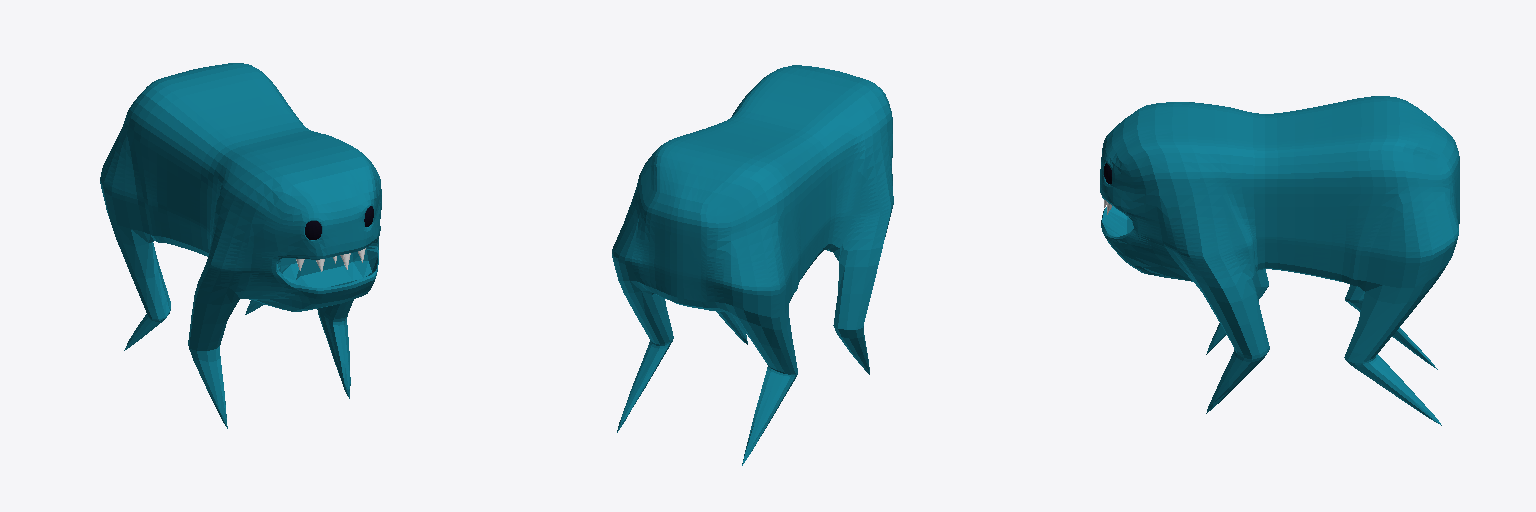
The model's file is Peanut.obj.
3 views of the same model, side by side, from view 1: azimuth 30°, elevation 25°; view 2: azimuth 150°, elevation 25°; view 3: azimuth 270°, elevation 25° (orthographic).
Visible parts, largest first — view 1: pPlane5; view 2: pPlane5; view 3: pPlane5.
Boxes of the visible parts, x1=… form: pPlane5: x1=100, y1=63, x2=381, y2=428; pPlane5: x1=612, y1=65, x2=893, y2=465; pPlane5: x1=1100, y1=96, x2=1459, y2=425.
Bounding box in the file's own units: 1.31 × 2.04 × 2.38.